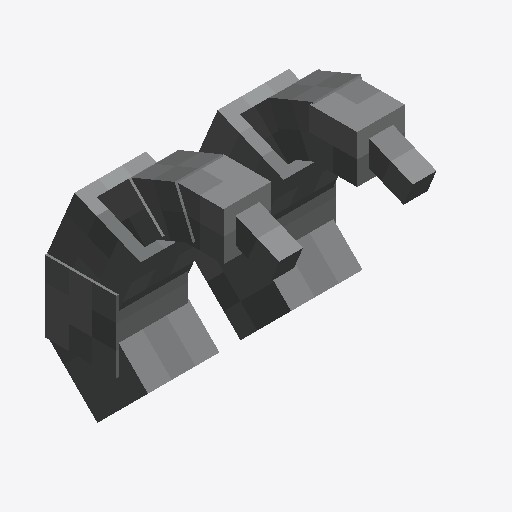
Isometric view (azimuth 45°, elevation 35.3°) of a Minecraft model made of 14 cuboids, textured from the same repository.
Parts seen in each view (by area): element 11, element 12, element 6, element 13, element 4, element 1, element 8, element 9, element 2, element 7, element 14, element 10 (+2 smaller).
Boxes of the visible parts, <box> form: element 11: <box>47,152,198,310</box>; element 12: <box>45,253,187,377</box>; element 6: <box>194,219,361,339</box>; element 13: <box>50,299,218,422</box>; element 4: <box>199,69,337,219</box>; element 1: <box>309,78,404,186</box>; element 8: <box>178,154,270,263</box>; element 9: <box>131,150,222,242</box>; element 2: <box>269,70,361,161</box>; element 7: <box>369,125,435,204</box>; element 14: <box>236,202,302,281</box>; element 10: <box>97,153,172,246</box>.
Bounding box in the file's own units: 9.2 × 9.77 × 8.54.